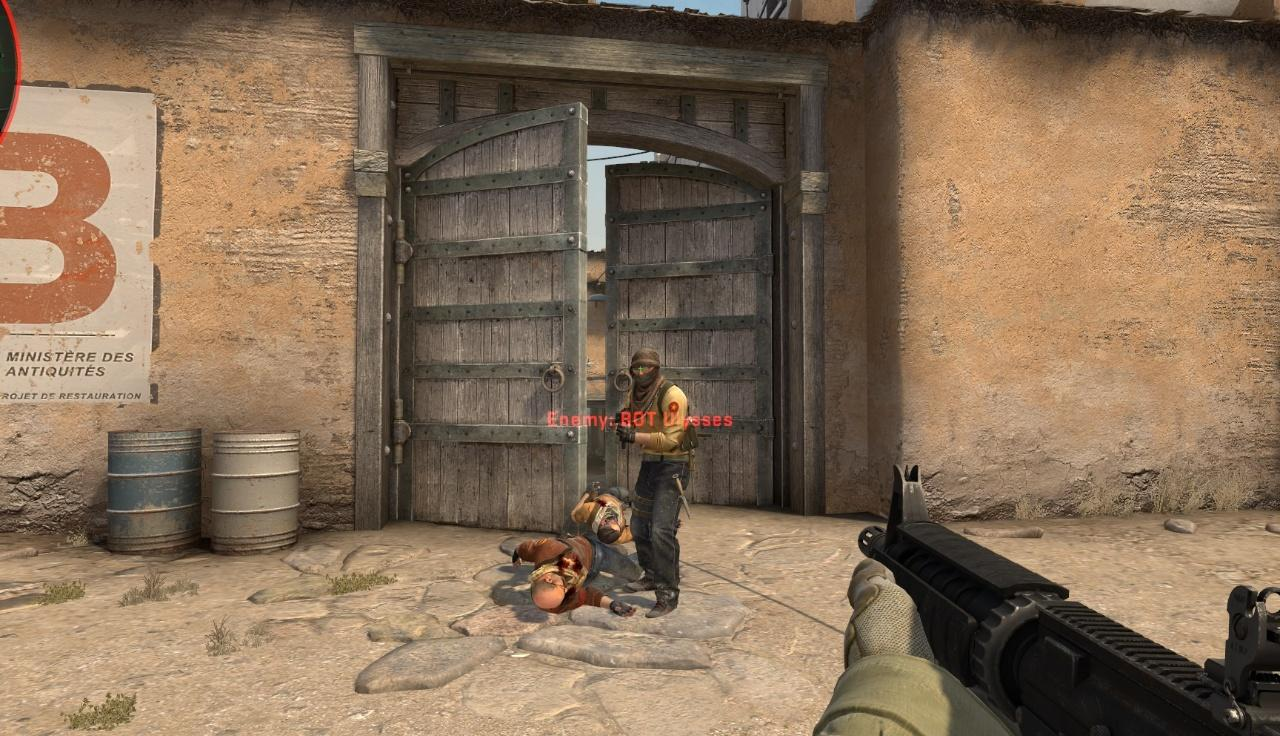rifle: (857, 466, 1280, 736)
tt: (625, 351, 695, 615)
tthead: (631, 351, 659, 389)
